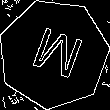M_S: (23, 22, 84, 85)
